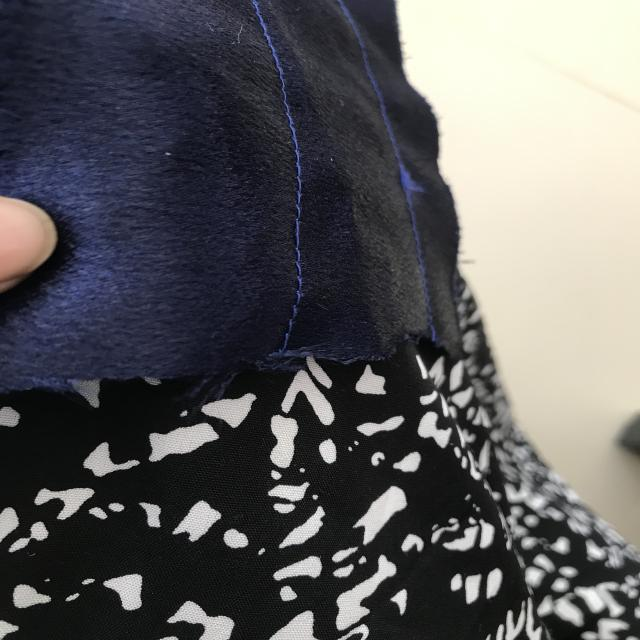good: (273, 101, 315, 210)
